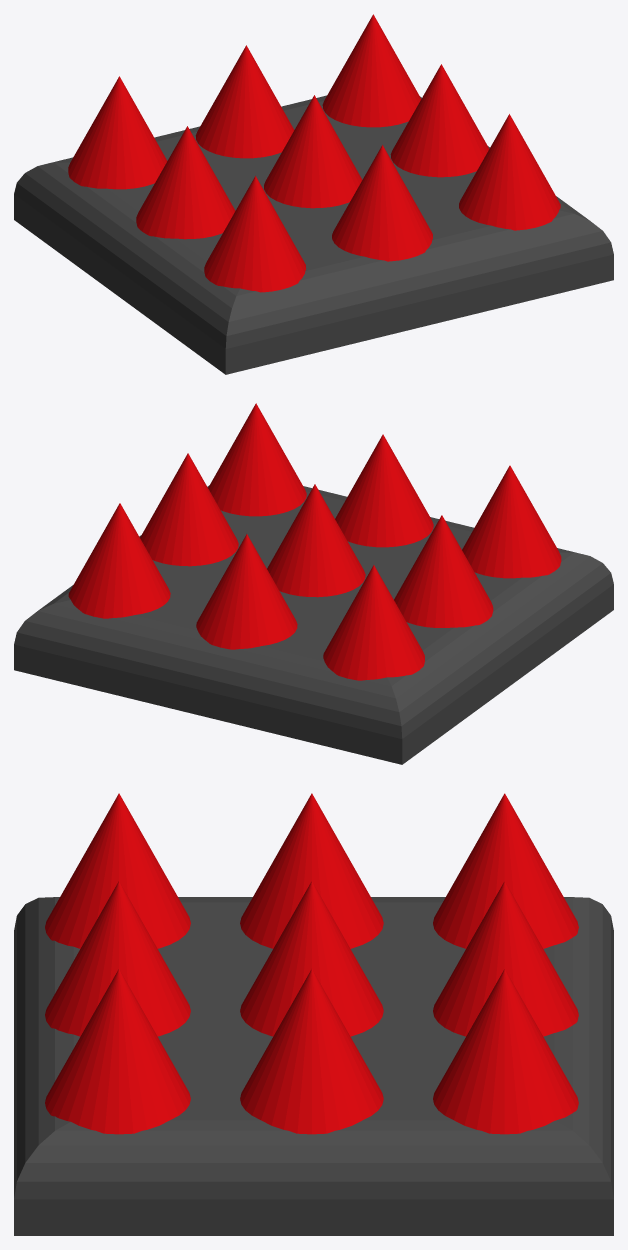
Rendered from spikes.fbx.
3 views of the same model, one above another, from view 1: azimuth 30°, elevation 25°; view 2: azimuth 150°, elevation 25°; view 3: azimuth 270°, elevation 25° (orthographic). The views are drawn at different scales.
Parts seen in each view (by area): view 1: Cylinder.002; view 2: Cylinder.002; view 3: Cylinder.002.
Part boxes in pixels (box(x1,y1,x2,y2)): Cylinder.002: box(14, 14, 613, 374); Cylinder.002: box(14, 403, 613, 764); Cylinder.002: box(14, 793, 613, 1235).
Size of the model in its own units: 212 by 81.19 by 200.
